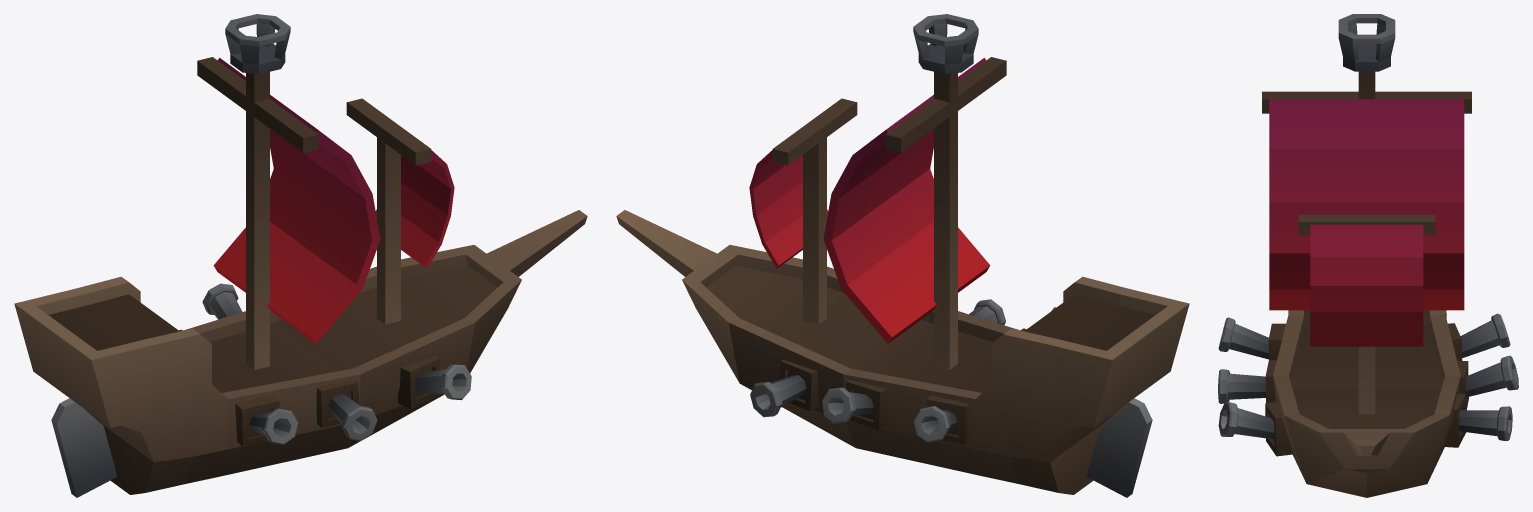
File: boatfinished.fbx
3 views of the same model, side by side, from view 1: azimuth 30°, elevation 25°; view 2: azimuth 150°, elevation 25°; view 3: azimuth 270°, elevation 25° (orthographic).
Parts seen in each view (by area): view 1: Ship; view 2: Ship; view 3: Ship.
Part boxes in pixels (<box>): Ship: <box>14,14,587,497</box>; Ship: <box>616,14,1189,497</box>; Ship: <box>1218,14,1518,497</box>.
Size of the model in its own units: 1604 by 1224 by 796.
